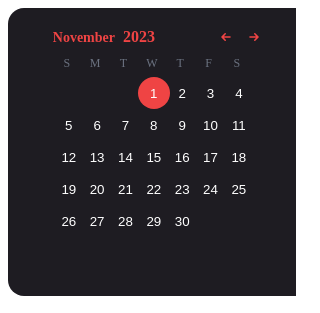
<DatePicker/> › click onChangeCalendarPeriod button › should click previous button
Click the button with test id "button-previous".
click(226, 38)  # box [212,28,240,49]
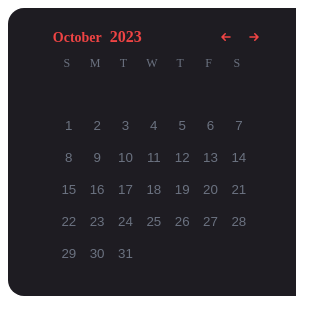
Check: the text "2023" is shown, box [110,28,142,45]
Check: the text "October" is shown, box [53,30,102,45]
